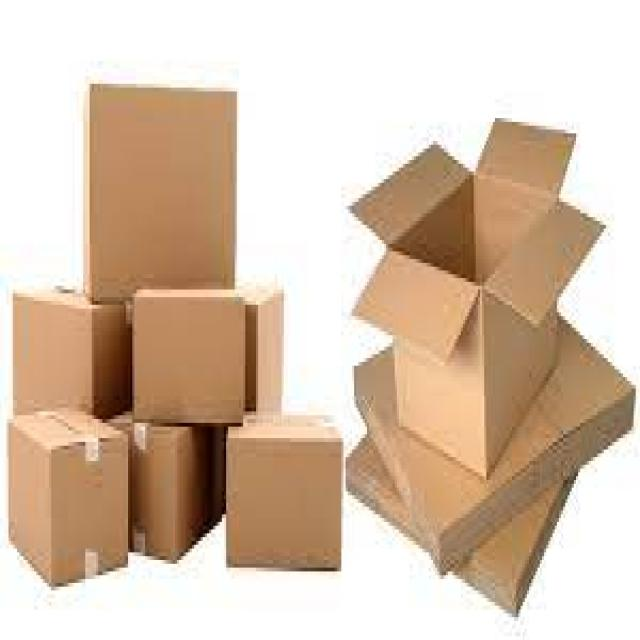Kardus kondisi bagus: (348, 118, 607, 481), (84, 86, 238, 303), (8, 401, 130, 589), (226, 411, 344, 569), (135, 292, 247, 428)
